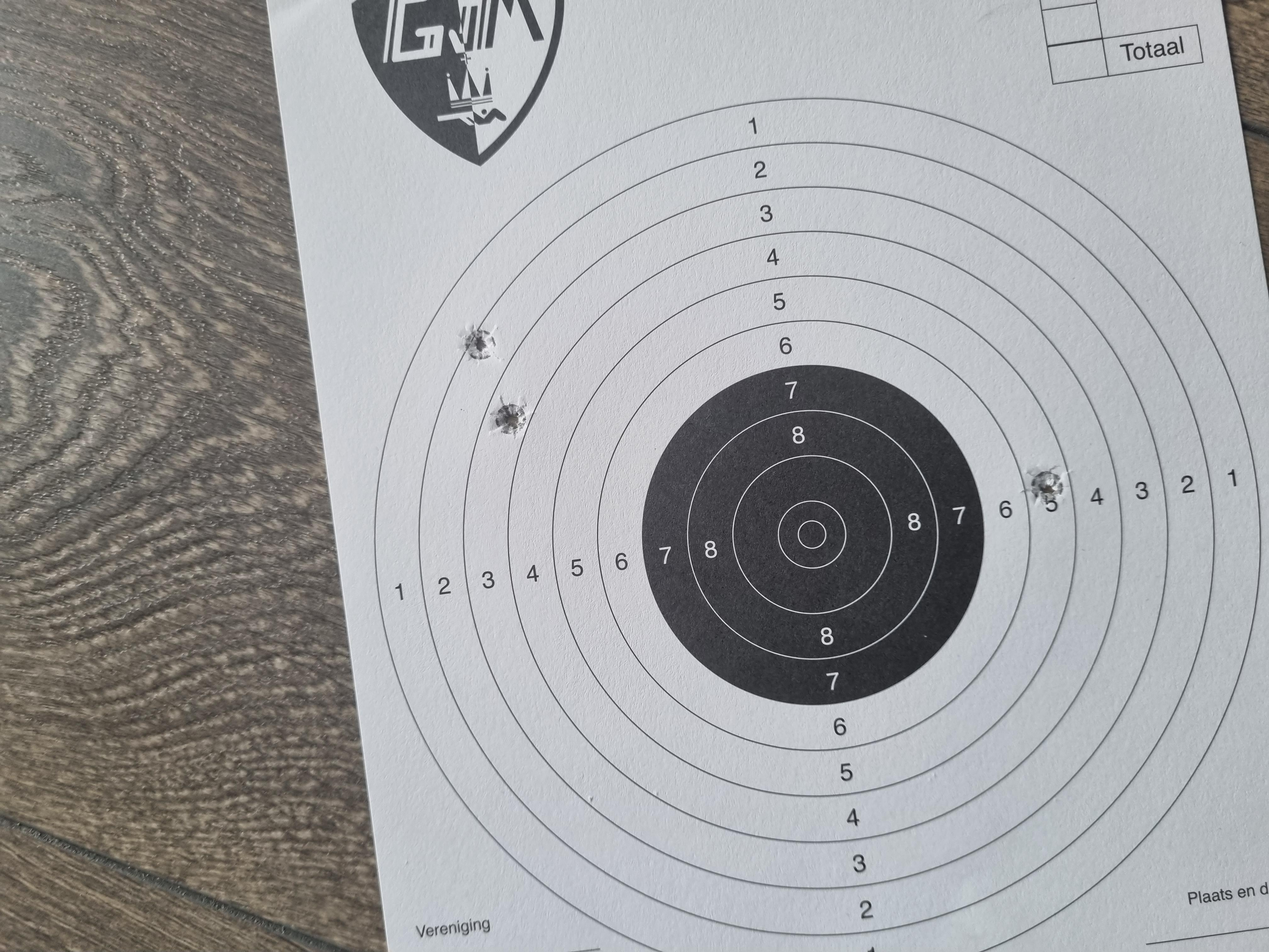hole: (678, 364, 739, 399), (596, 768, 655, 801), (786, 344, 837, 377)
